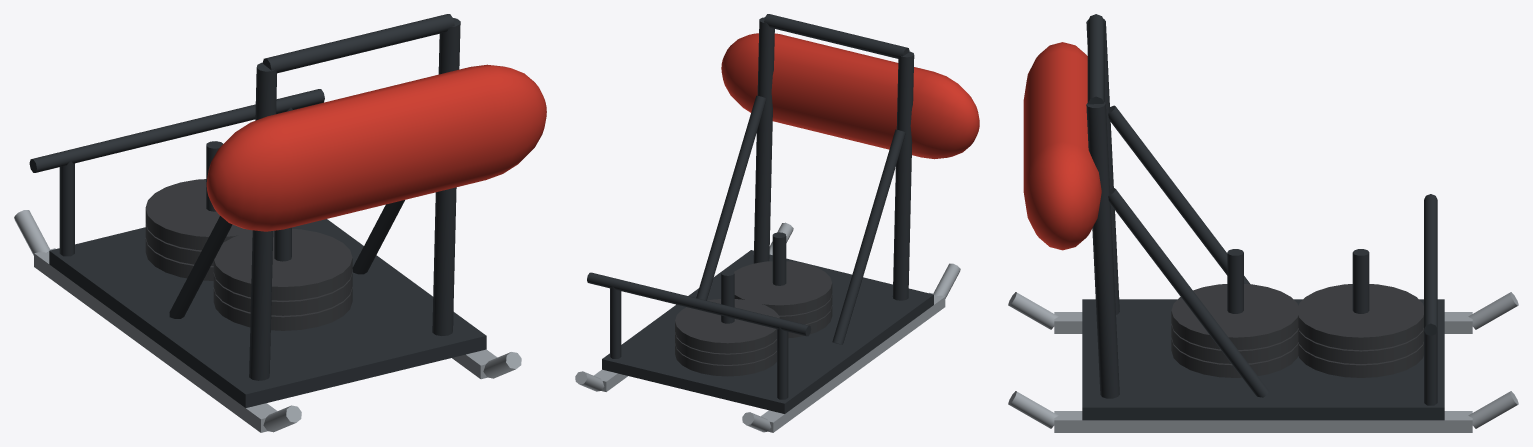
File: train_sled.glb
3 renders of one model, left to right at view 1: azimuth 30°, elevation 25°; view 2: azimuth 150°, elevation 25°; view 3: azimuth 270°, elevation 25°, orthographic. The views are drawn at different scales.
Visible parts, largest first — view 1: sled_frame, sled_pad, sled_weights, sled_skids; view 2: sled_frame, sled_pad, sled_weights, sled_skids; view 3: sled_frame, sled_weights, sled_pad, sled_skids.
Part boxes in pixels (x1,y1,x2,y2): sled_frame: (29,14,486,407); sled_pad: (206,64,546,231); sled_weights: (145,179,352,330); sled_skids: (14,210,521,432); sled_frame: (587,14,933,413); sled_pad: (721,33,979,159); sled_weights: (675,261,832,376); sled_skids: (575,222,960,432); sled_frame: (1082,14,1444,420); sled_weights: (1171,284,1423,377); sled_pad: (1023,42,1101,250); sled_skids: (1008,292,1518,432).
Bounding box in the file's own units: 1.27 × 1.28 × 1.83.
